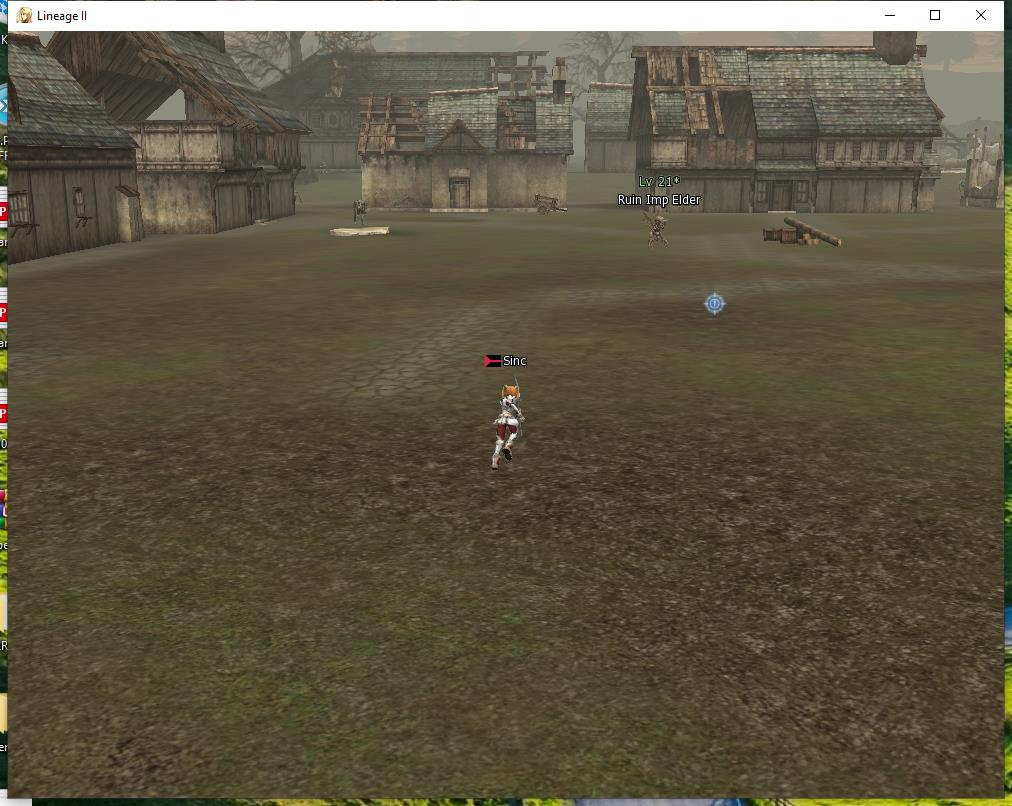monster: (622, 174, 708, 245), (344, 199, 378, 221)
